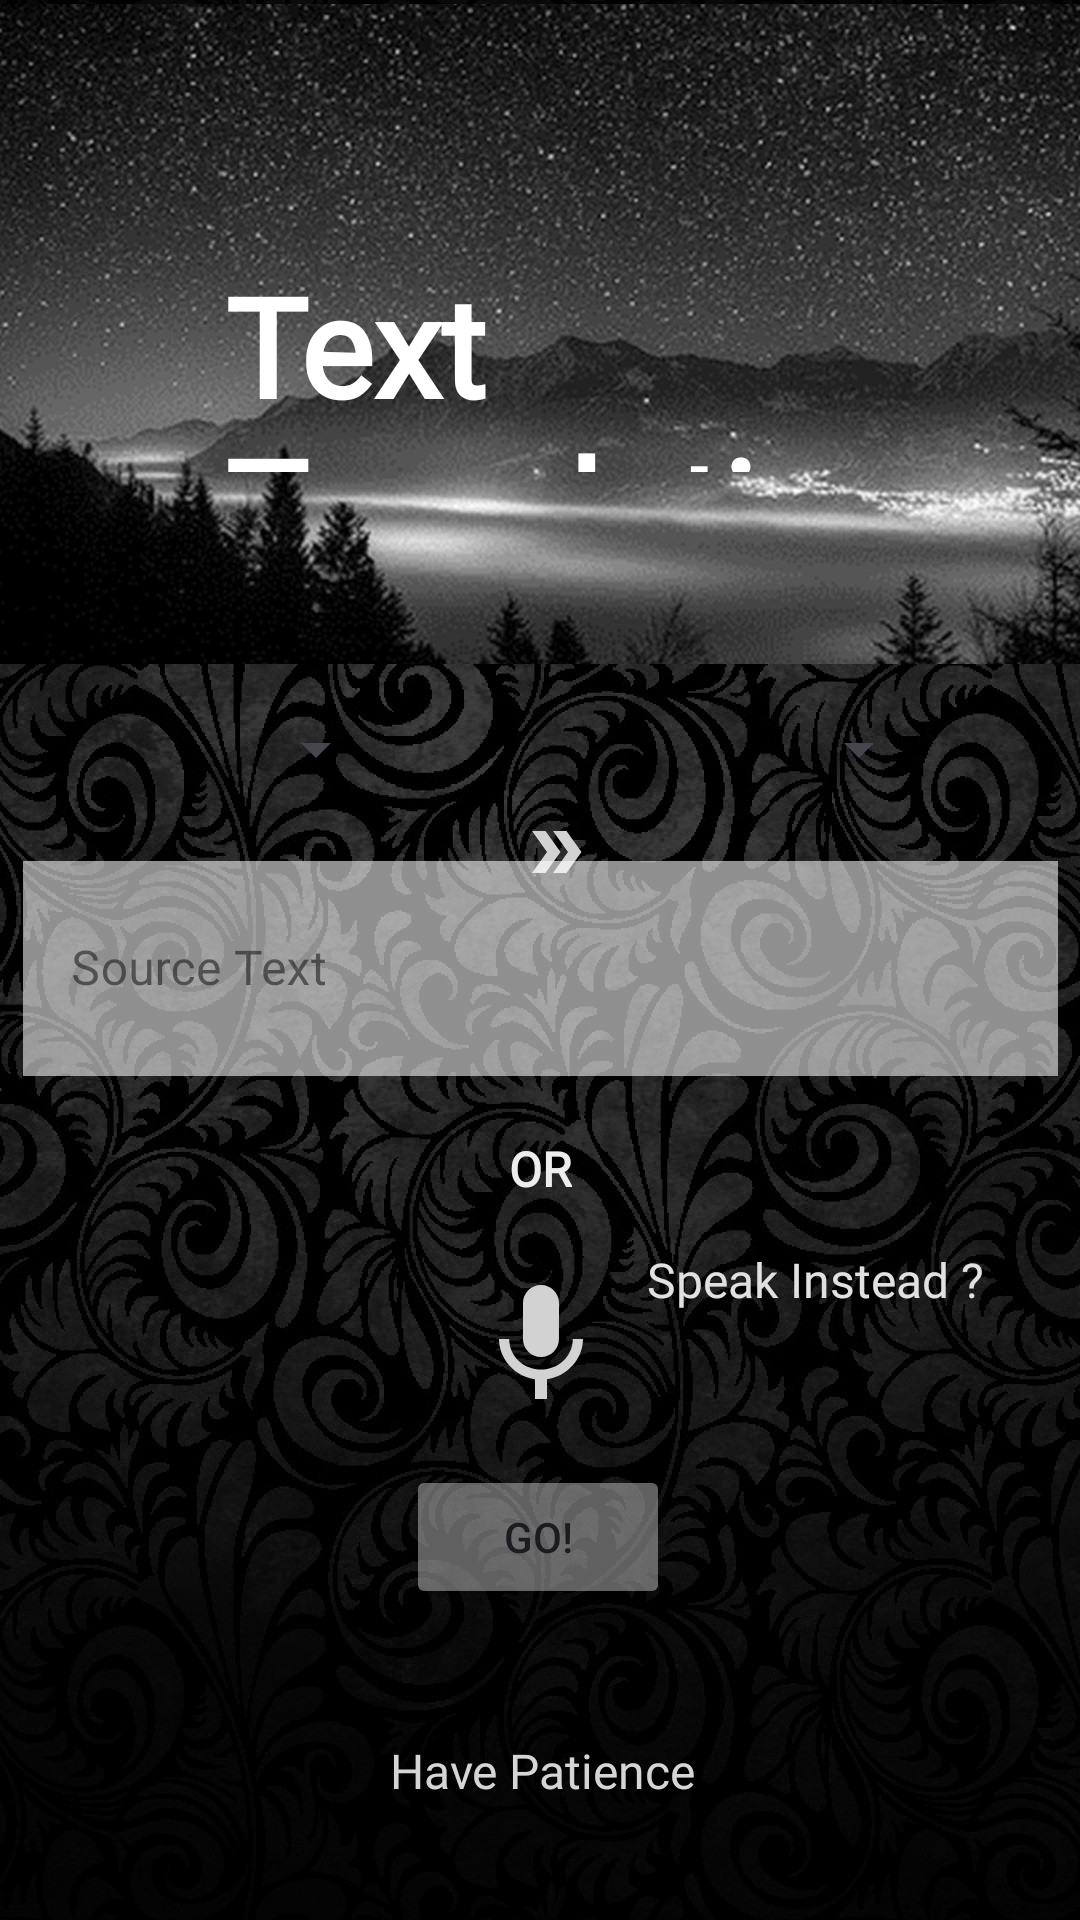

Screen size 1080x1920. Icon name, then its box in pixels as (x1, y1, x2, y2):
mic: (458, 1273, 623, 1417)
